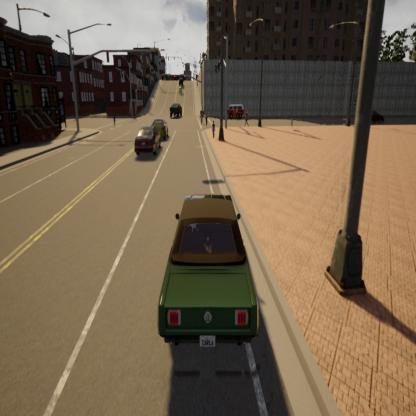Cars: (146, 188, 264, 364), (131, 124, 162, 163), (148, 115, 172, 142), (362, 108, 386, 127), (226, 101, 246, 121), (167, 101, 183, 119)
Pedestrian: (242, 106, 249, 129), (209, 121, 217, 140), (198, 109, 204, 126), (204, 111, 209, 128)
